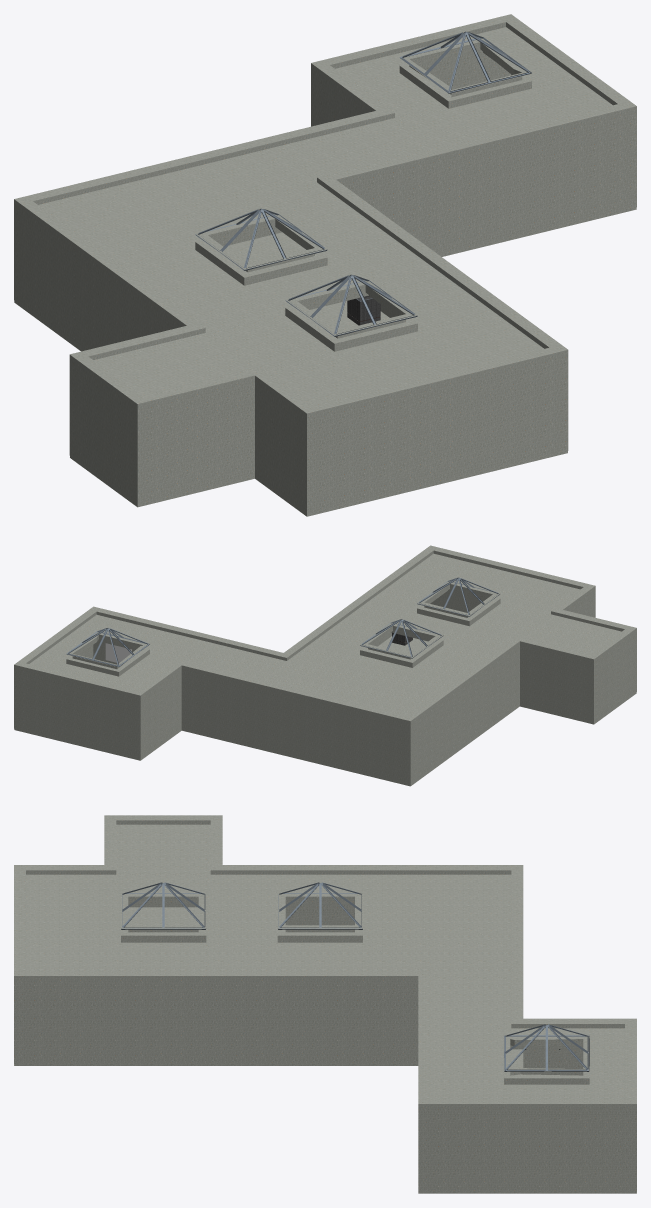
File: Optimize18.glb
3 renders of one model, top to bottom at view 1: azimuth 30°, elevation 25°; view 2: azimuth 150°, elevation 25°; view 3: azimuth 270°, elevation 25°, orthographic. The views are drawn at different scales.
Visible parts, largest first — view 1: Chair, Floor; view 2: Chair, Floor, ImageMesh.008; view 3: Chair, Floor.
Part boxes in pixels (bbox=[...]): Chair: bbox=[14, 14, 636, 516]; Floor: bbox=[226, 232, 389, 330]; Chair: bbox=[14, 545, 636, 786]; Floor: bbox=[378, 636, 427, 654]; ImageMesh.008: bbox=[105, 643, 131, 662]; Chair: bbox=[14, 815, 636, 1193]; Floor: bbox=[128, 907, 523, 1068].
Bounding box in the file's own units: 27.04 × 5.64 × 24.68.
Materials: 10 (6 with a texture image).
